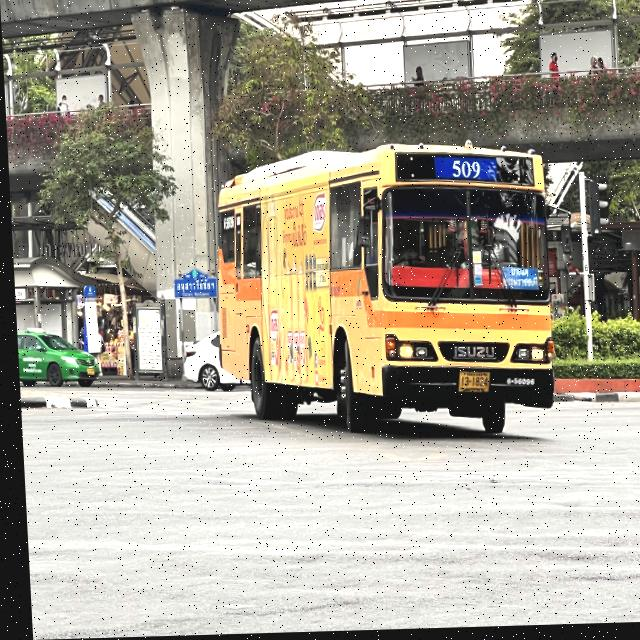BMTA-bus: (208, 143, 559, 446)
Bus-Line-Number: (444, 159, 483, 184)
Destination-Sign-Normal: (499, 270, 535, 293)
